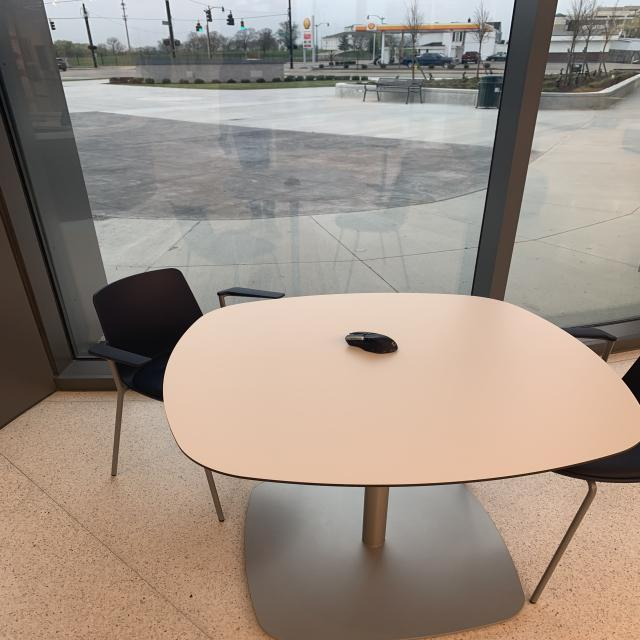Mouse: (338, 324, 414, 363)
